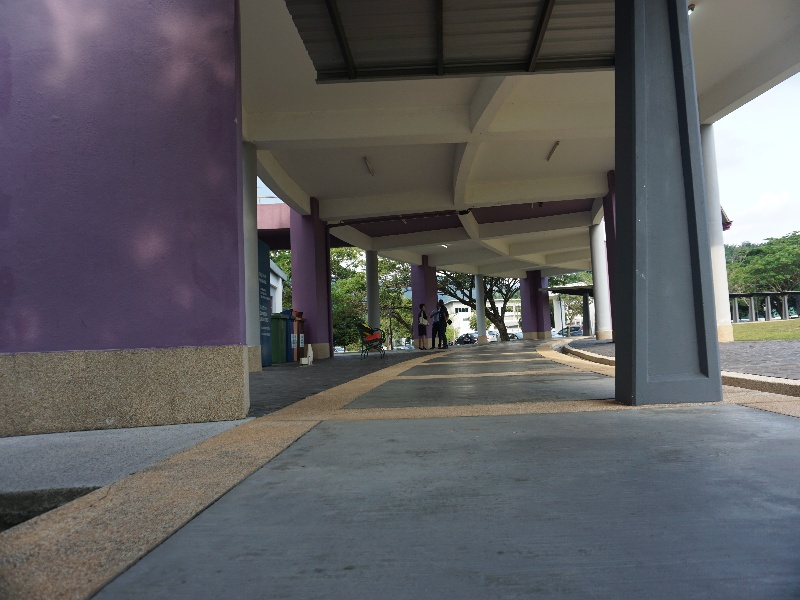Block D Pillar 1: (4, 3, 794, 494)
pillar: (3, 3, 267, 429), (602, 3, 739, 411), (274, 193, 339, 362), (352, 245, 388, 344), (517, 268, 554, 353), (469, 274, 495, 343)
